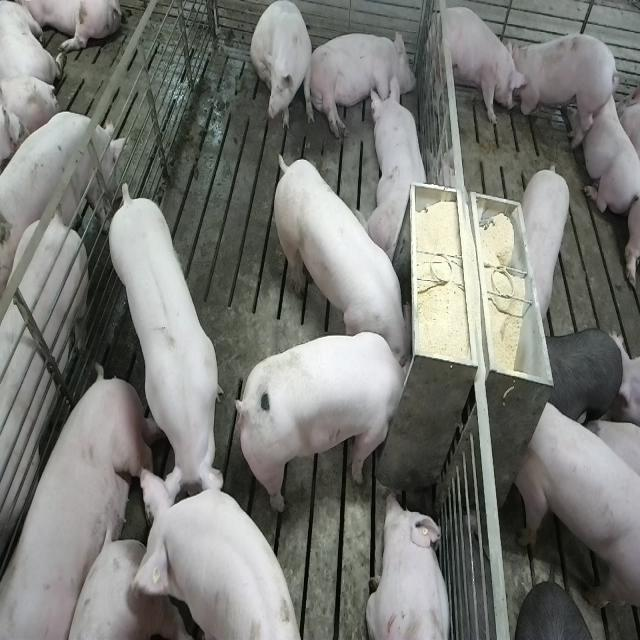Feeding: (244, 330, 418, 516), (269, 146, 411, 365)
Lateral_lying: (3, 365, 155, 640), (307, 26, 417, 140)
Sitting: (251, 3, 315, 138)
Standing: (104, 184, 224, 519), (0, 207, 90, 578), (128, 469, 300, 640), (516, 395, 638, 620), (0, 107, 122, 274), (516, 29, 619, 150), (431, 6, 524, 129), (520, 160, 574, 324), (544, 322, 626, 425)
Sternal_lying: (366, 490, 453, 640), (364, 75, 431, 261), (578, 80, 639, 214)
